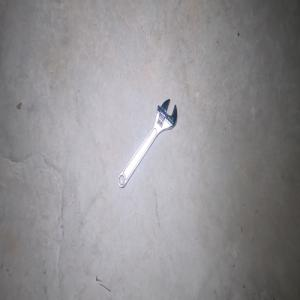Wrench: (117, 98, 177, 188)
